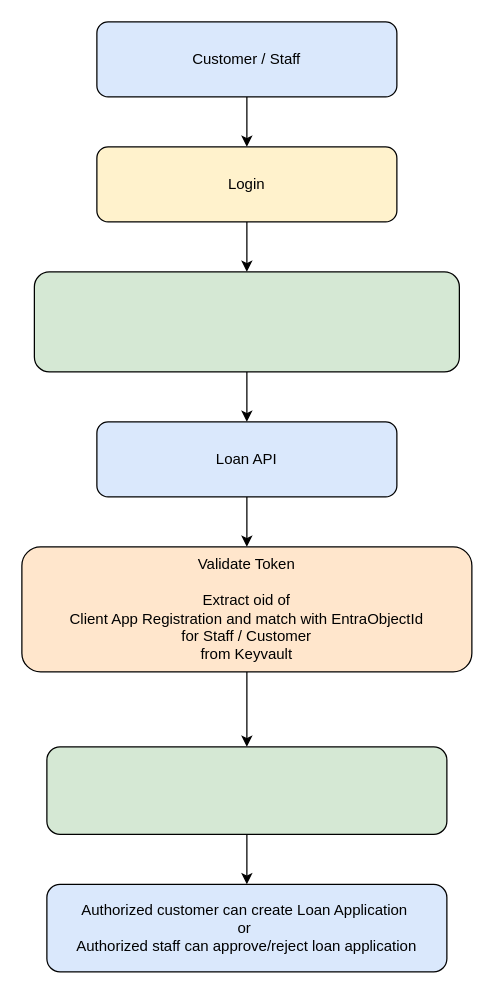
Image size: 494x994. Some labels were removed from this diagram. Each missing label, with the centre of its shape:
Authorise / Reject Login for Staff or Customer once token is validated: [246,790]
Generate JWT Token using Application Registration Client for Customer or Staff: [246,321]
